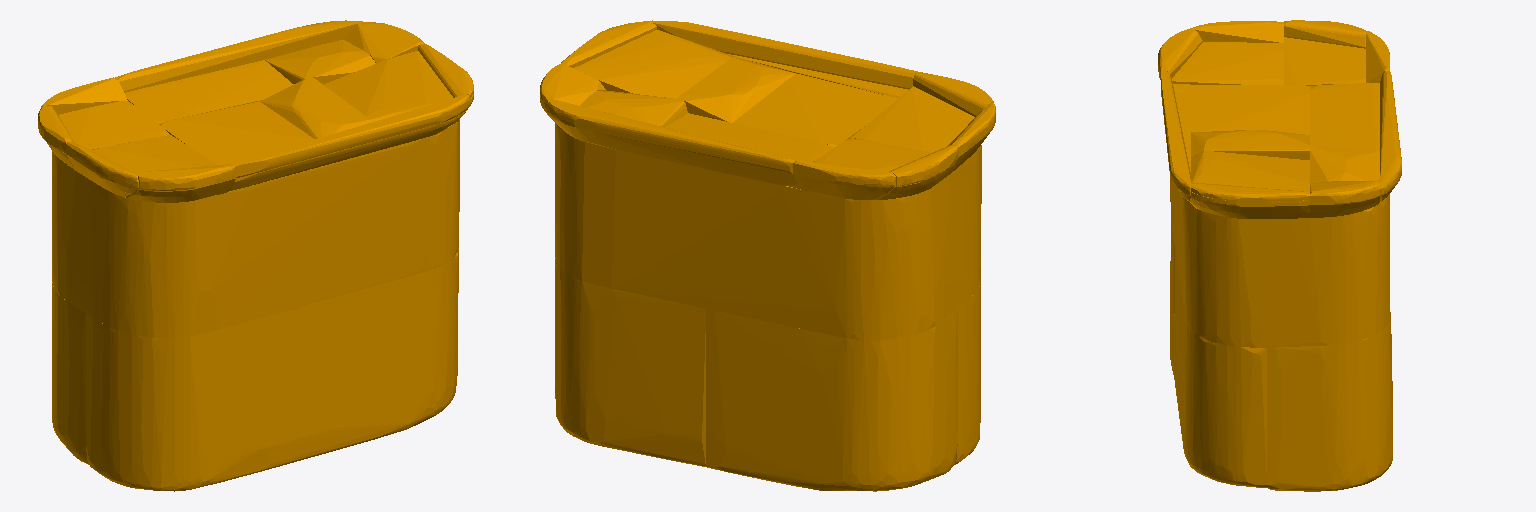
The robot description file, URDF, robot "010_potted_meat_can":
<?xml version="1.0" encoding="UTF-8"?>
<robot name="010_potted_meat_can">
	<link name="base">
		<collision>
			<geometry>
				<mesh filename="..\vhacd\010_potted_meat_can_vhacd.obj" scale="1.0 1.0 1.0"/>
			</geometry>
			<origin xyz="0 0 0"/>
			<contact_coefficients mu="0.24" />
		</collision>
		<visual>
			<geometry>
				<mesh filename="..\vhacd\010_potted_meat_can_vhacd.obj" scale="1.0 1.0 1.0"/>
			</geometry>
			<origin xyz="0 0 0"/>
		</visual>
		<inertial>
			<mass value="0.37"/>
			<inertia ixx="0.0002609938486394708" ixy="-1.0300680530897149e-05" ixz="-5.745642722761419e-07" iyy="0.0004473677552775692" iyz="1.160909265241449e-06" izz="0.00033728303942858975" />
			<origin xyz="-0.0328403521878015 -0.026352714386245372 0.037830850023320484"/>
		</inertial>
	</link>
</robot>

--- Render facts (derived) ---
Views: 3 orthographic renders of the robot side by side, from view 1: azimuth 30°, elevation 25°; view 2: azimuth 150°, elevation 25°; view 3: azimuth 270°, elevation 25°.
Robot: 010_potted_meat_can — 1 links, 0 joints (none); root link base; default pose: every joint at zero.
Visible links, largest first — view 1: base; view 2: base; view 3: base.
Link boxes in pixels (x1=…): base: x1=38, y1=20, x2=473, y2=491; base: x1=540, y1=20, x2=995, y2=491; base: x1=1158, y1=20, x2=1401, y2=491.
Size in the robot's own frame: 0.1024 by 0.0605 by 0.0839 metres.
Meshes: 1 distinct files referenced, 1 mesh visuals loaded (1 OBJ).